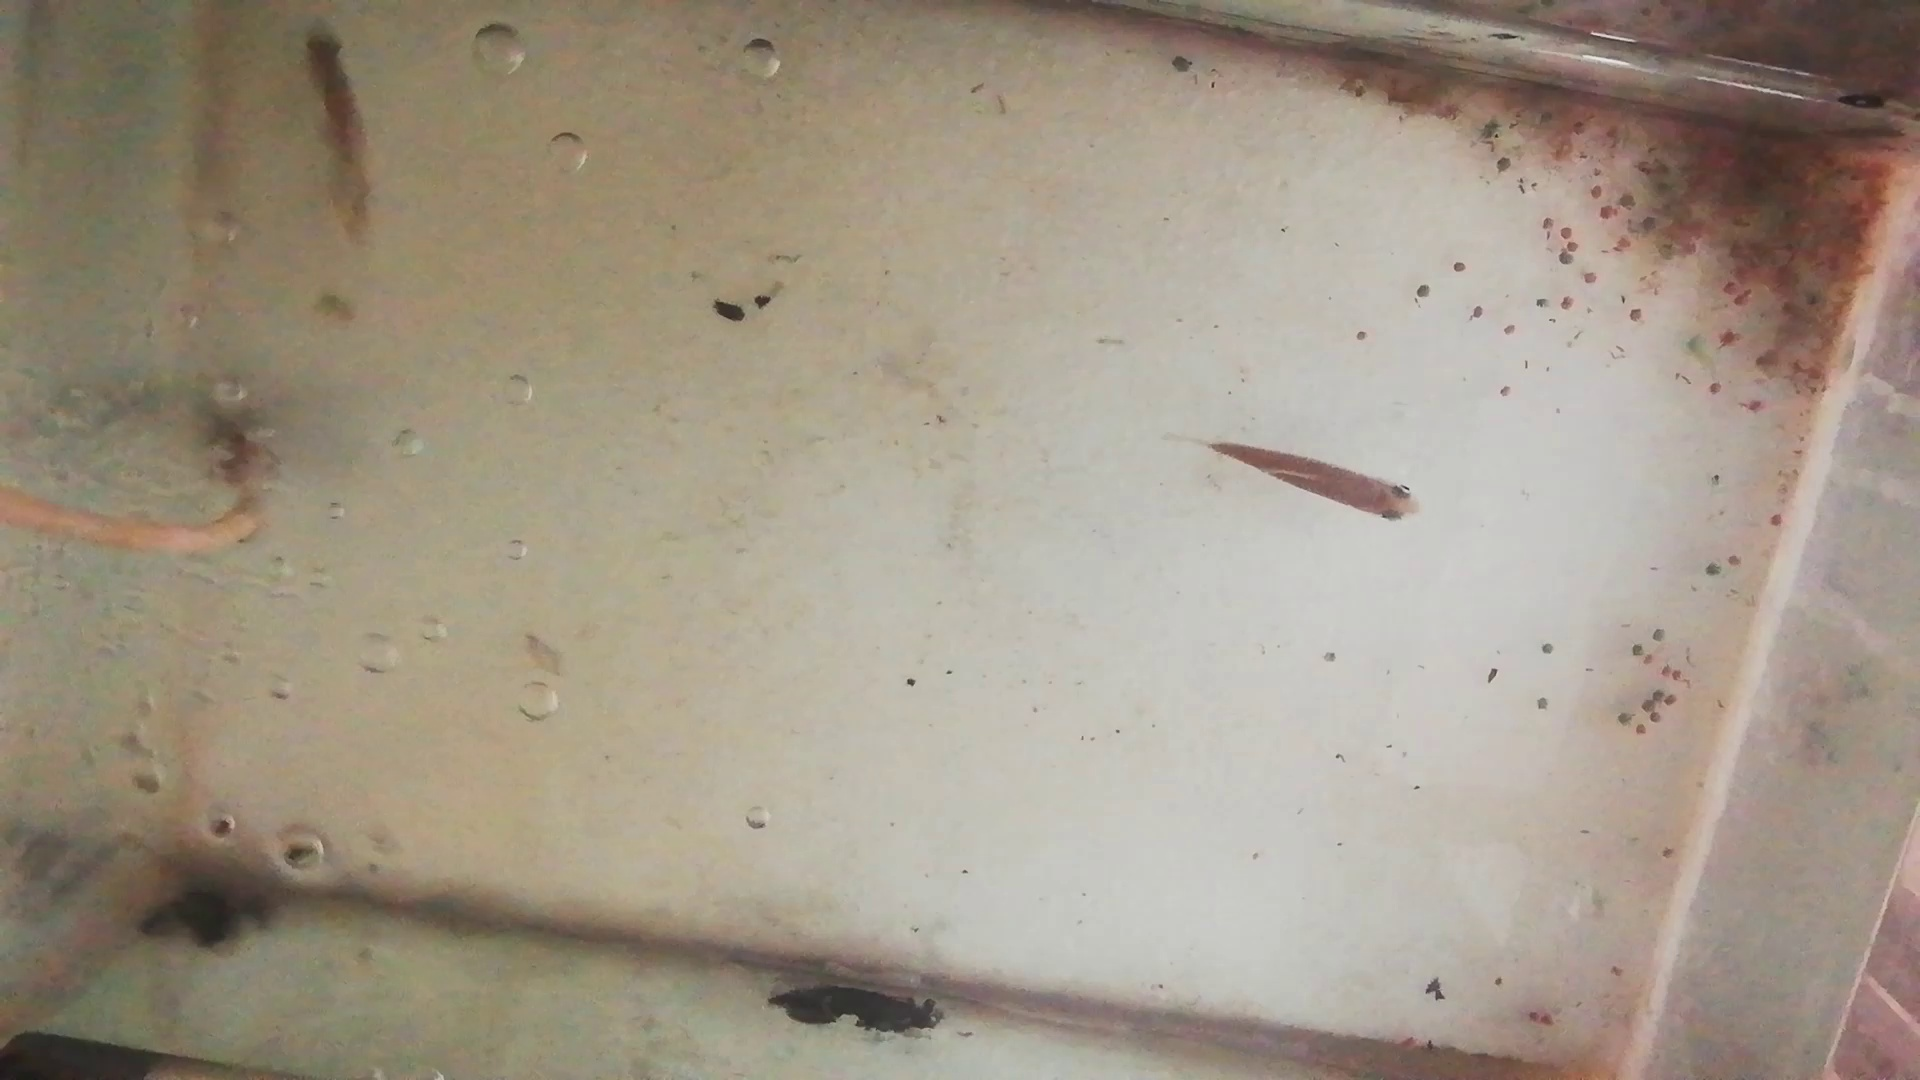fish: (1209, 438, 1422, 527), (305, 18, 378, 247)
